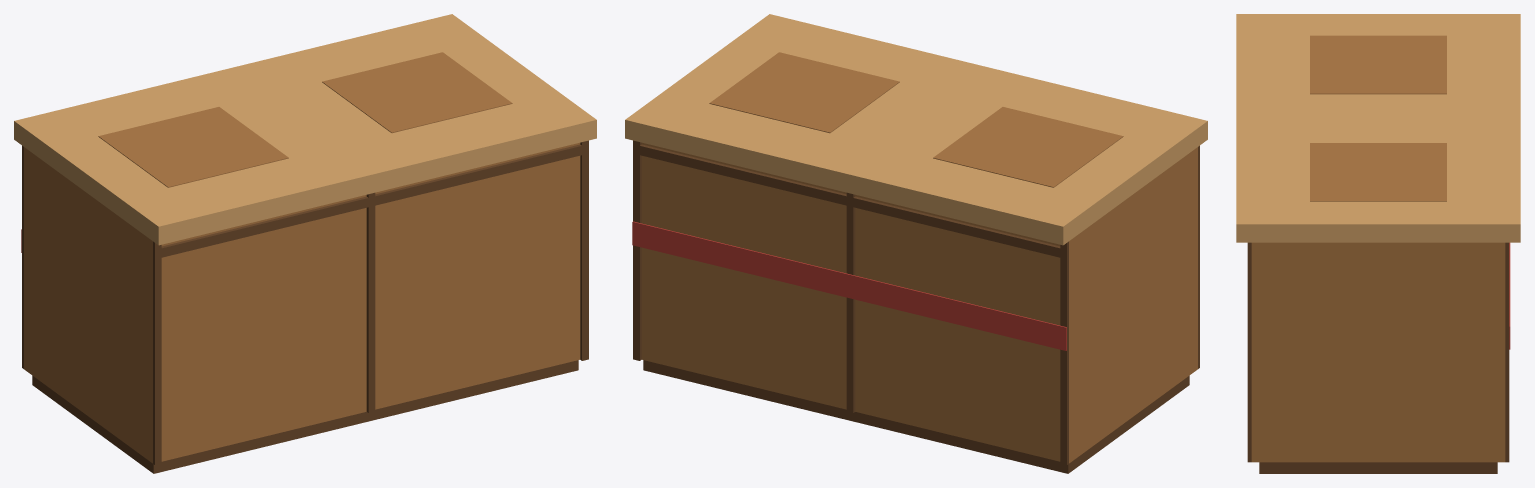
Rendered from pass_2m.glb.
The picture shows the model from 3 angles, left to right: view 1: azimuth 30°, elevation 25°; view 2: azimuth 150°, elevation 25°; view 3: azimuth 270°, elevation 25°; orthographic projection.
Visible parts, largest first — view 1: pass_2m_body; view 2: pass_2m_body; view 3: pass_2m_body.
Boxes of the visible parts, x1,y1,x2,y2 form: pass_2m_body: (14,14,596,473); pass_2m_body: (625,14,1207,473); pass_2m_body: (1236,14,1520,473).
Size of the model in its own units: 1.96 by 1.1 by 1.12.
